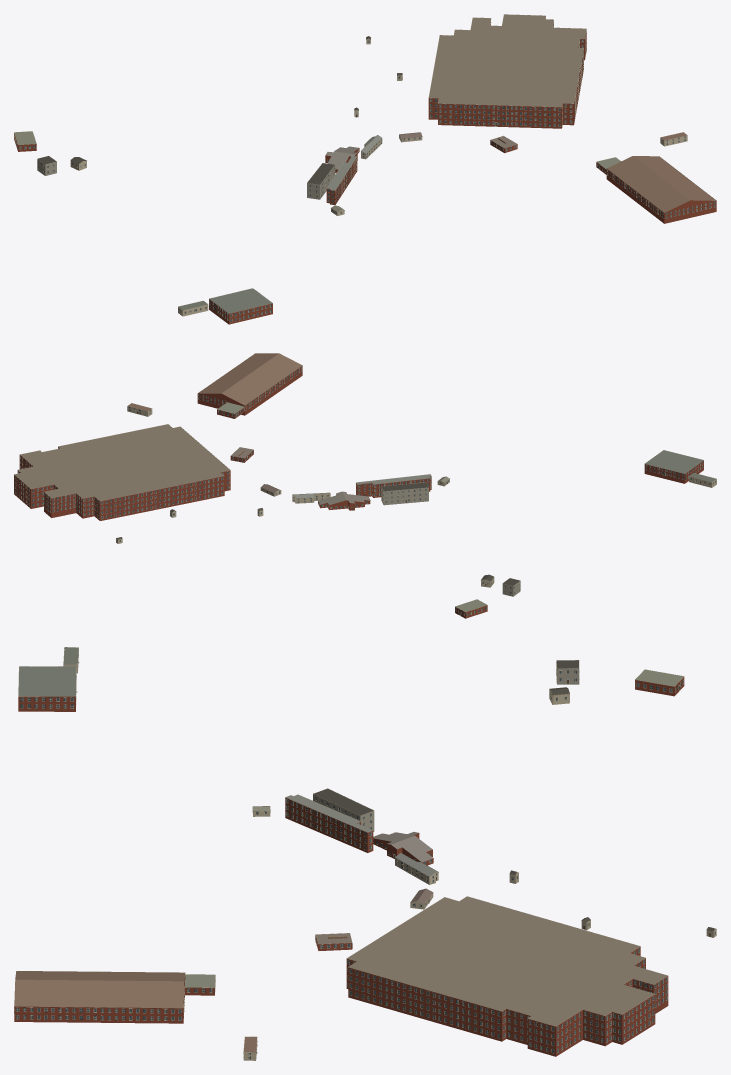
The picture shows the model from 3 angles, top to bottom: view 1: azimuth 30°, elevation 25°; view 2: azimuth 150°, elevation 25°; view 3: azimuth 270°, elevation 25°; orthographic projection. The views are drawn at different scales.
Visible parts, largest first — view 1: -4_1_271954267_0, -4_1_318249786_2, -4_1_1422196005_12; view 2: -4_1_271954267_0, -4_1_318249786_2, -4_1_1422196005_12; view 3: -4_1_271954267_0, -4_1_318249786_2, -4_1_1422196005_12.
Boxes of the visible parts, x1,y1,x2,y2 form: -4_1_271954267_0: (14, 14, 716, 324); -4_1_318249786_2: (70, 38, 687, 316); -4_1_1422196005_12: (37, 159, 335, 199); -4_1_271954267_0: (14, 353, 716, 618); -4_1_318249786_2: (116, 406, 716, 587); -4_1_1422196005_12: (381, 487, 520, 596); -4_1_271954267_0: (14, 647, 715, 1059); -4_1_318249786_2: (63, 655, 716, 1060); -4_1_1422196005_12: (313, 668, 579, 831).
Size of the model in its own units: 516 by 24.77 by 385.
